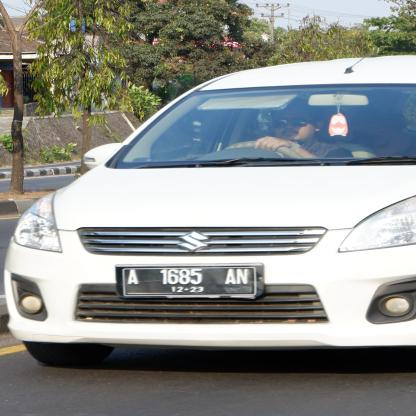Plat-Nomor: (110, 263, 270, 300)
